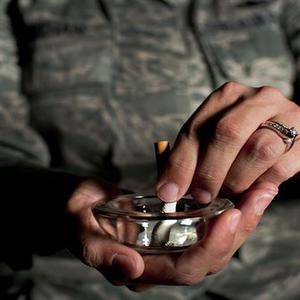cigarette: (155, 139, 176, 220)
